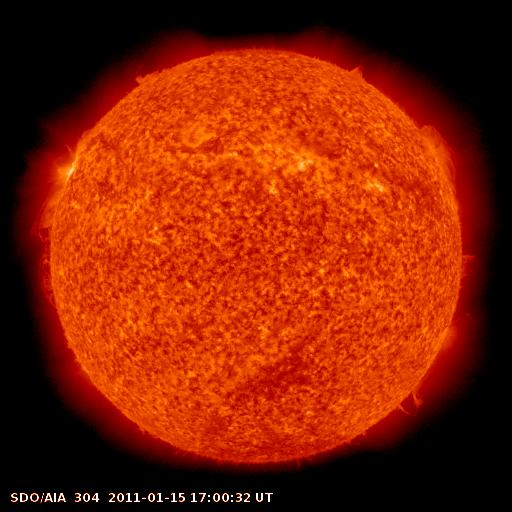prominence: (25, 183, 70, 311), (412, 113, 467, 192), (451, 240, 495, 305), (386, 379, 431, 427), (117, 56, 172, 95), (339, 46, 376, 91)
